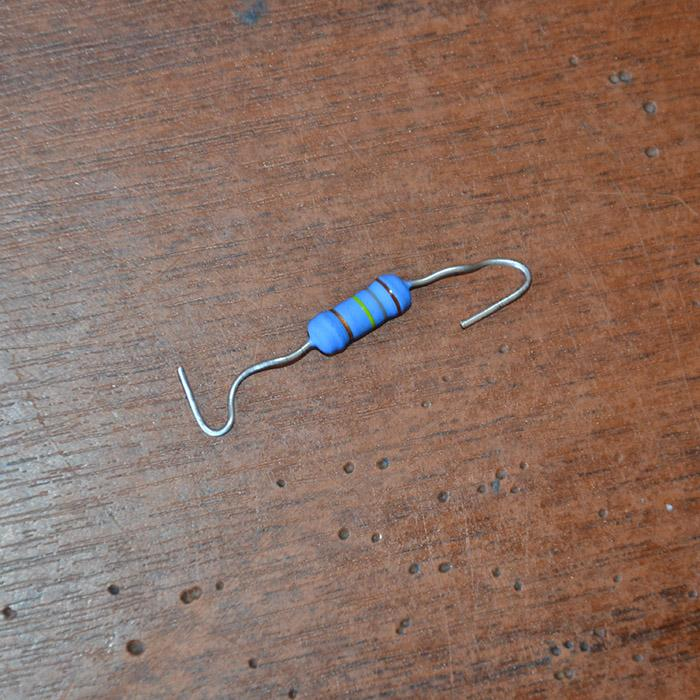resistor: (307, 273, 411, 354)
